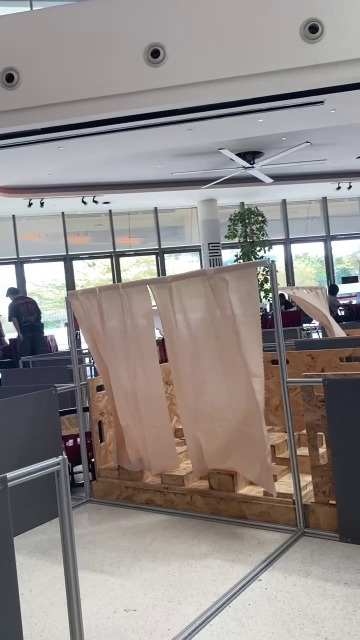curtain: (54, 256, 281, 461)
